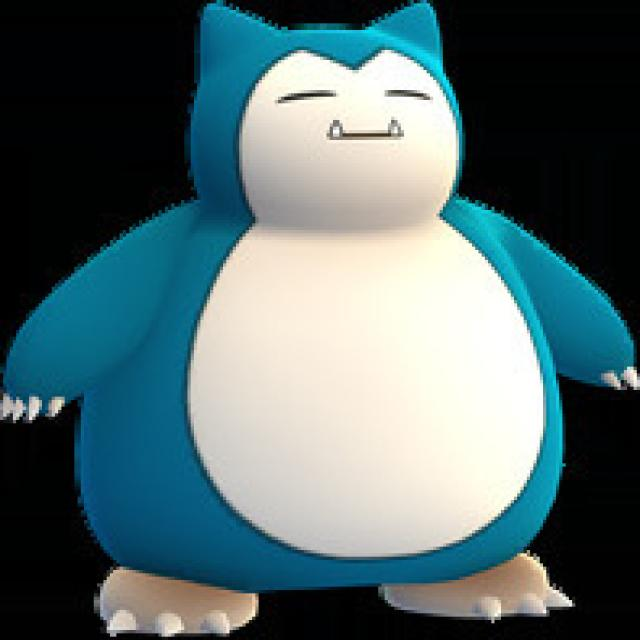Snorlax: (66, 0, 580, 619)
